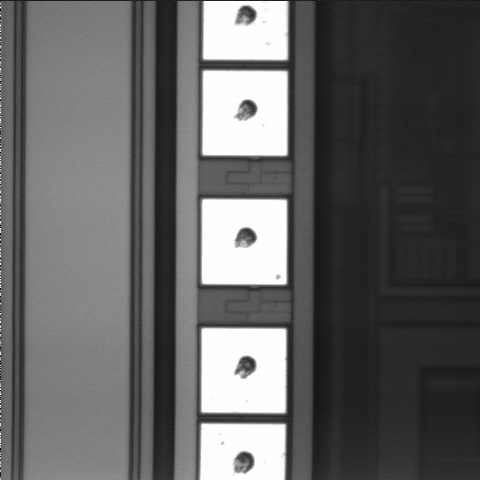pad: (202, 199, 287, 285), (201, 328, 286, 413), (203, 71, 287, 156)
